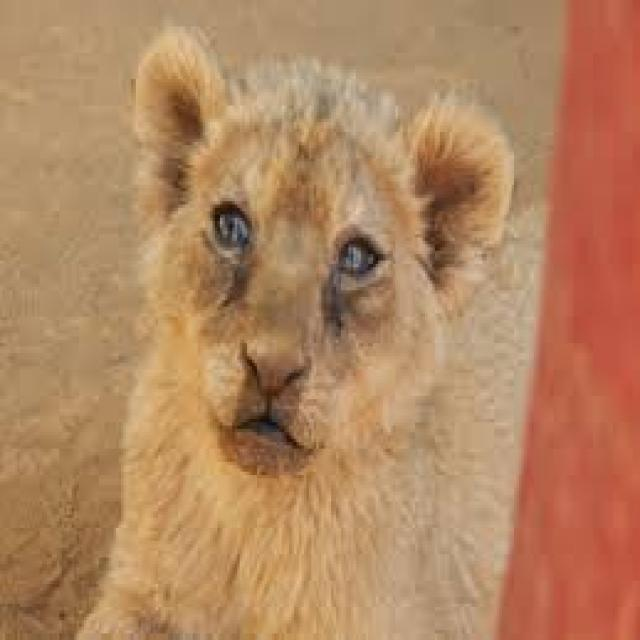Lion: (67, 19, 521, 636)
